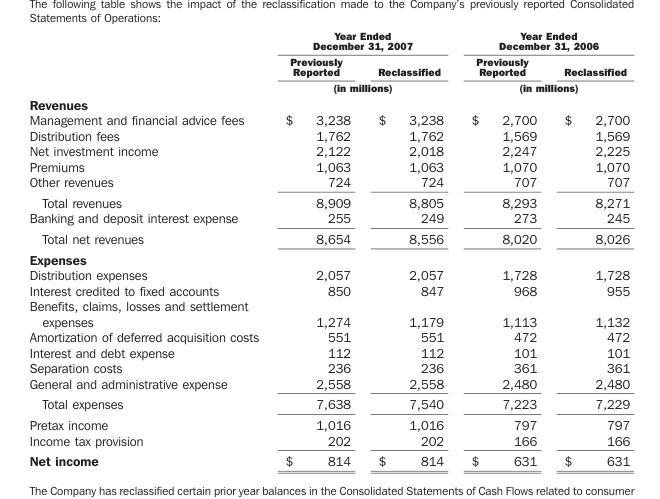table: (28, 28, 629, 468)
table column: (28, 28, 271, 468), (363, 28, 456, 468), (456, 28, 549, 468), (271, 28, 363, 468), (549, 28, 629, 468)
table column header: (28, 28, 629, 94)
table projected row header: (28, 248, 629, 266), (28, 94, 629, 111)
table row: (28, 297, 629, 328), (28, 28, 629, 53), (28, 53, 629, 78), (28, 393, 629, 414), (28, 228, 629, 248), (28, 209, 629, 228), (28, 173, 629, 191), (28, 191, 629, 209), (28, 248, 629, 266), (28, 375, 629, 393), (28, 414, 629, 432), (28, 432, 629, 450), (28, 450, 629, 468), (28, 94, 629, 111), (28, 78, 629, 94), (28, 111, 629, 127), (28, 142, 629, 158), (28, 266, 629, 282), (28, 328, 629, 344), (28, 359, 629, 375), (28, 127, 629, 142), (28, 158, 629, 173), (28, 282, 629, 297), (28, 344, 629, 359)
table spanning cell: (271, 28, 456, 53), (456, 28, 629, 53), (271, 78, 456, 94), (456, 78, 629, 94)
